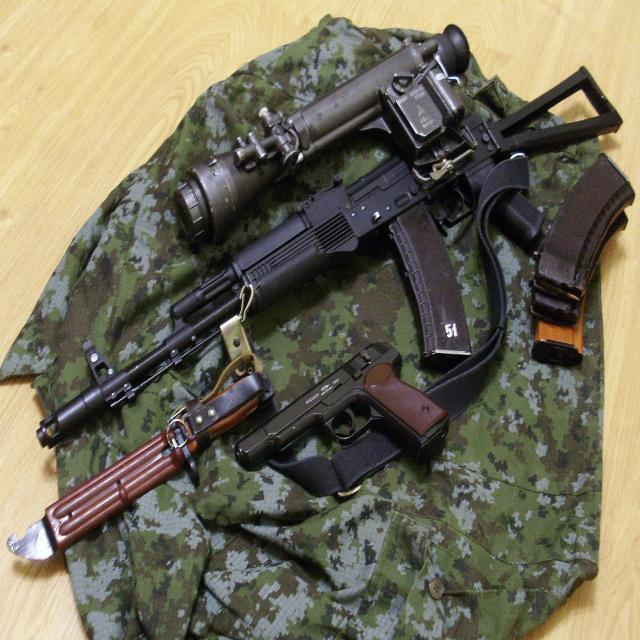firearm: (36, 59, 623, 449)
knife: (3, 396, 275, 582)
pistol: (234, 340, 451, 468)
